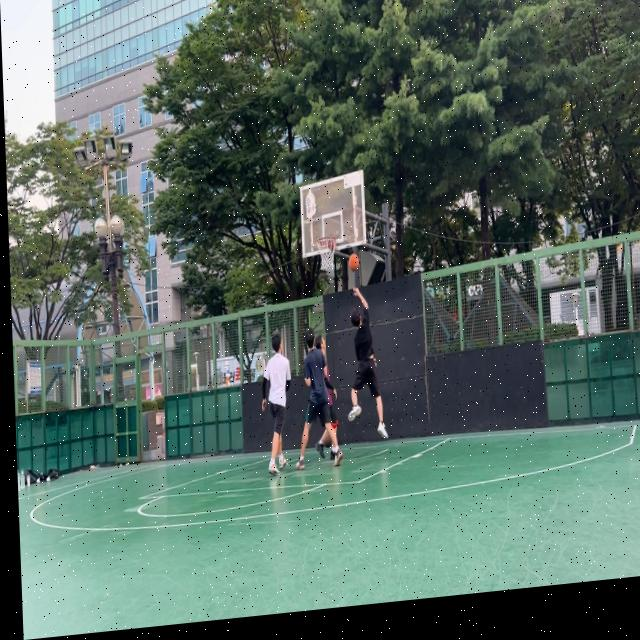basketball: (348, 252, 360, 272)
hoop: (316, 235, 337, 273)
